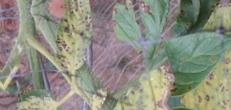Tomato Septoria leaf spot: (148, 0, 231, 104), (90, 44, 179, 110), (44, 2, 104, 75), (4, 84, 66, 110)
